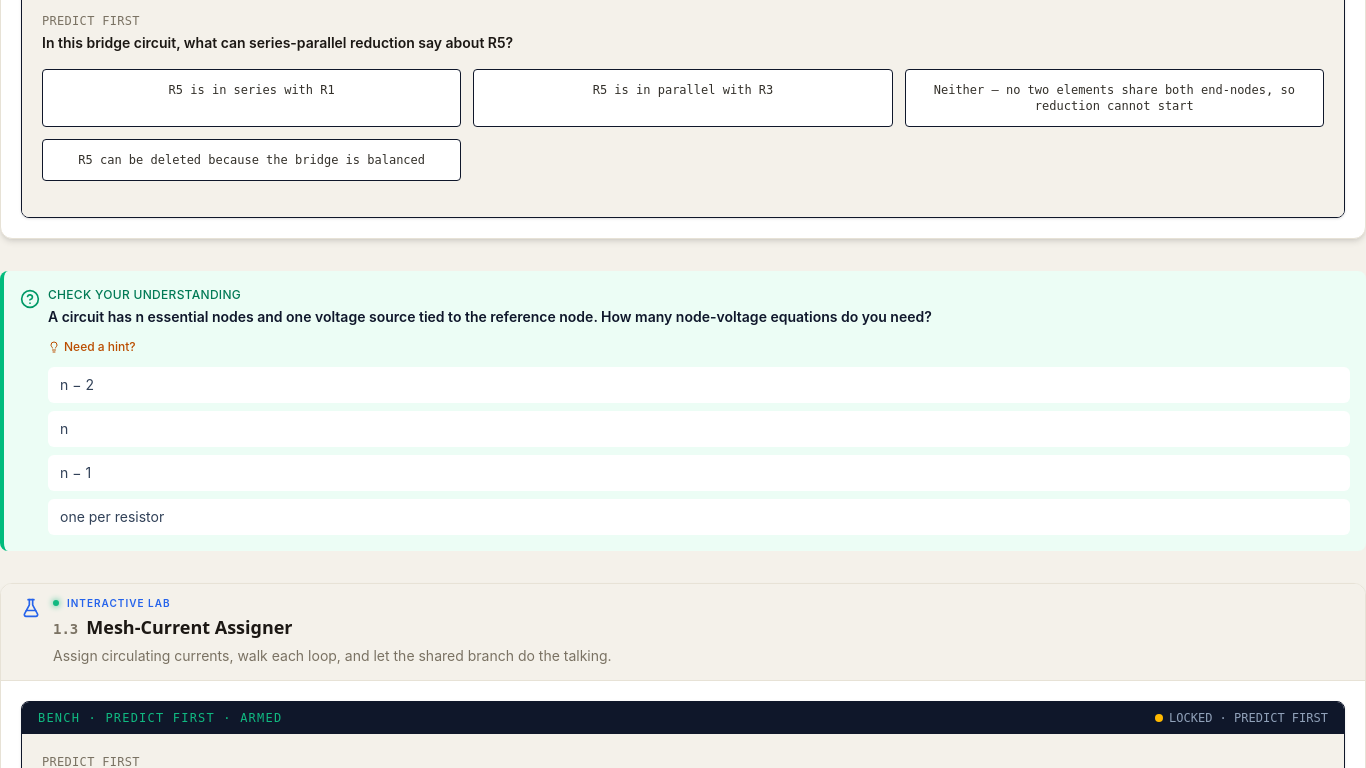
NodalMesh page › accepts the correct equation-count concept check answer
This screenshot has width=1366, height=768.
(page scrolled)
What coordinates should you click on to do the following:
click the button "n − 2"
I would click on:
 (77, 384)
Its box is [48, 367, 1350, 403].
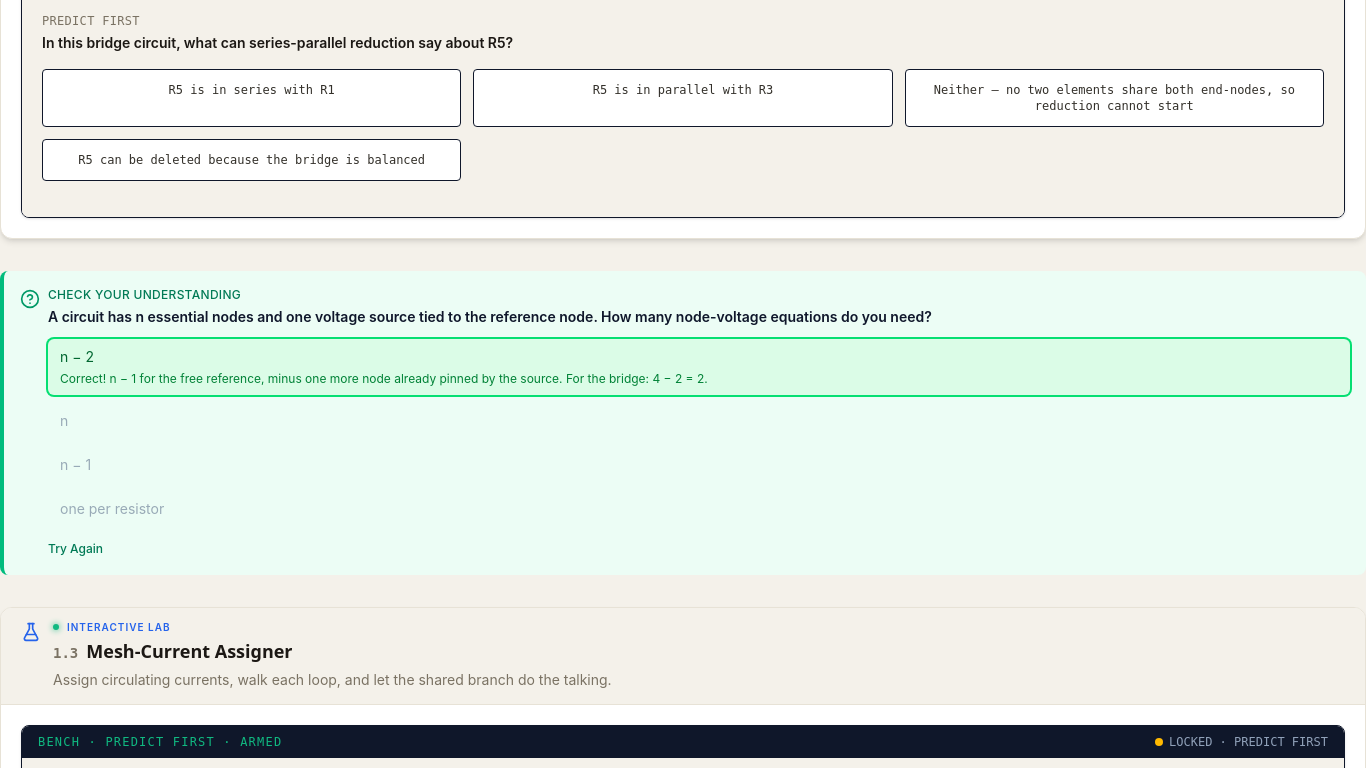
Check: the text "Correct!" is shown, box [60, 371, 708, 386]
